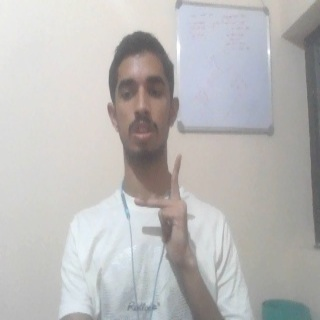Face: (106, 31, 179, 157)
Okay: (132, 153, 193, 269)
